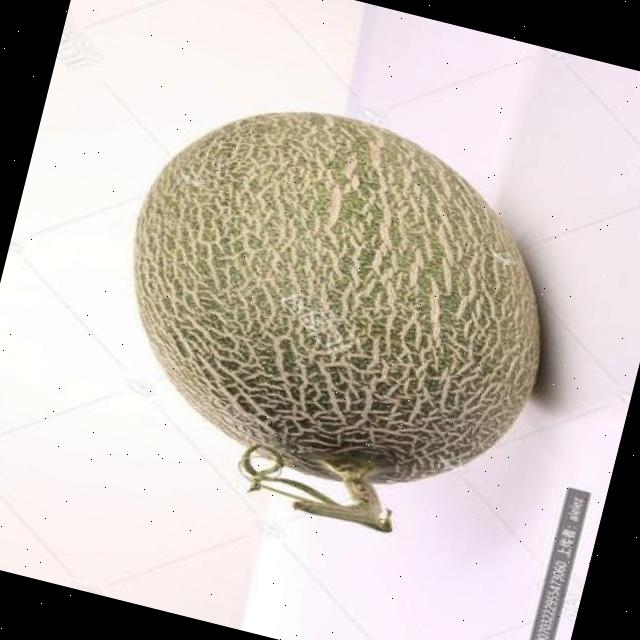Hami Melon: (87, 74, 591, 522)
